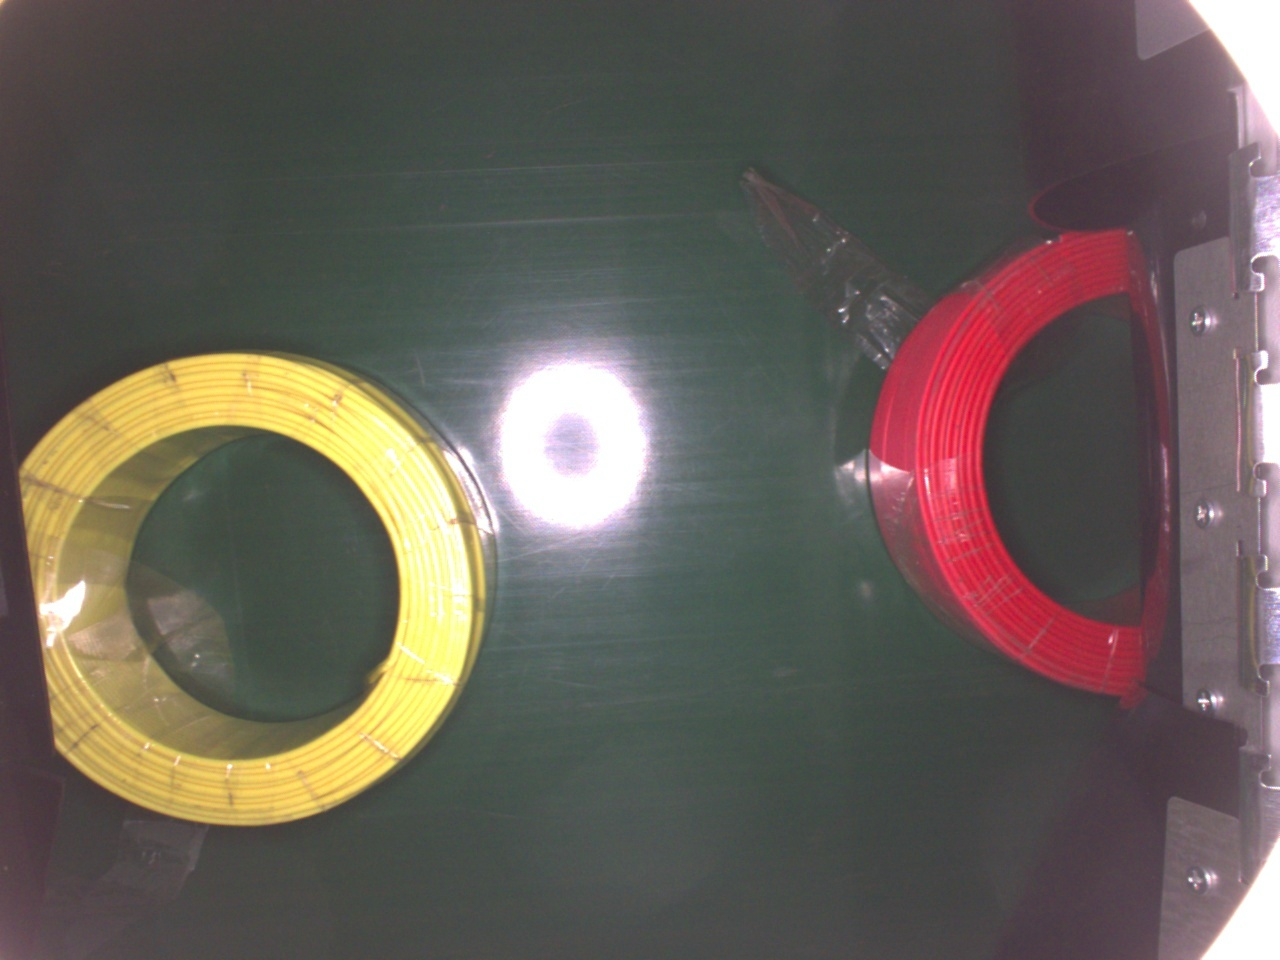red: (860, 220, 1156, 700)
yellow: (31, 348, 501, 835)
